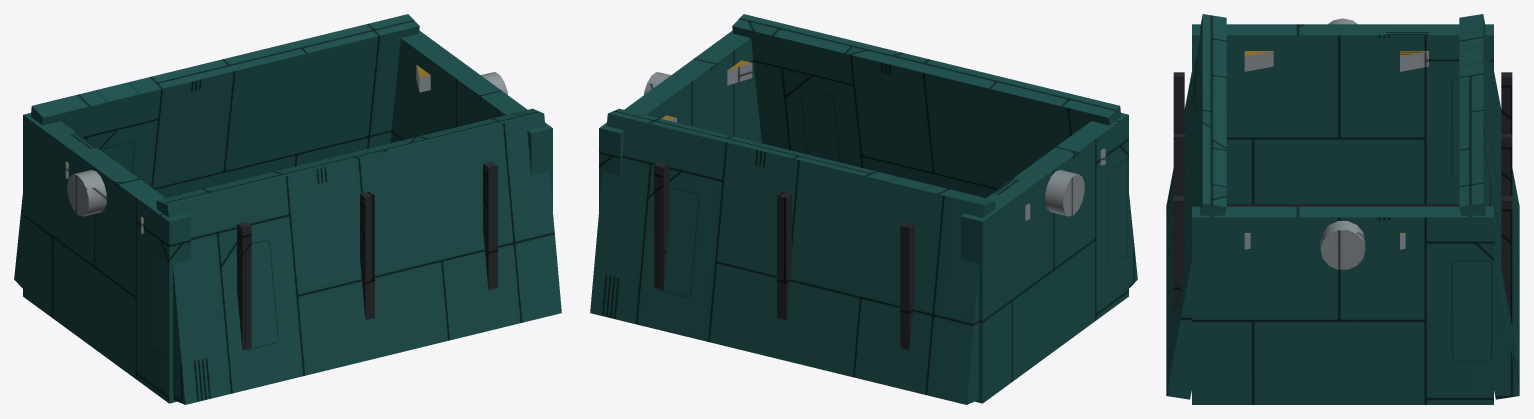
The model's file is cargo-ore-skip_lod1.glb.
The picture shows the model from 3 angles, left to right: view 1: azimuth 30°, elevation 25°; view 2: azimuth 150°, elevation 25°; view 3: azimuth 270°, elevation 25°; orthographic projection. The views are drawn at different scales.
Parts seen in each view (by area): view 1: LOD1_Hull, LOD1_Armor, LOD1_BrushedMetal; view 2: LOD1_Hull, LOD1_Armor, LOD1_BrushedMetal; view 3: LOD1_Hull, LOD1_Armor, LOD1_BrushedMetal, LOD1_MechanicalDark.
Boxes of the visible parts, bbox=[...] form: LOD1_Hull: bbox=[14, 14, 561, 404]; LOD1_Armor: bbox=[237, 161, 497, 350]; LOD1_BrushedMetal: bbox=[65, 65, 507, 233]; LOD1_Hull: bbox=[590, 14, 1137, 404]; LOD1_Armor: bbox=[654, 161, 914, 350]; LOD1_BrushedMetal: bbox=[644, 63, 1105, 220]; LOD1_Hull: bbox=[1166, 14, 1519, 404]; LOD1_Armor: bbox=[1173, 72, 1512, 325]; LOD1_BrushedMetal: bbox=[1244, 18, 1428, 269]; LOD1_MechanicalDark: bbox=[1226, 204, 1459, 206].
Size of the model in its own units: 2.9 by 1.31 by 2.05.
Materials: 5 (5 with a texture image).
